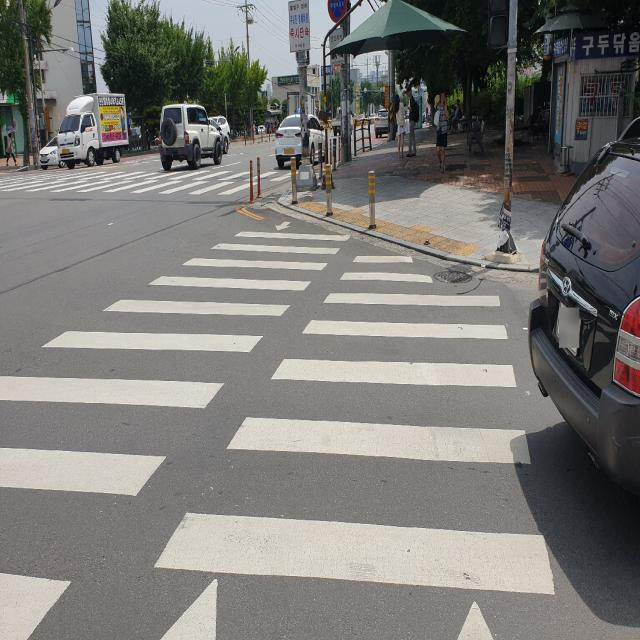횡단보도: (0, 222, 555, 640), (0, 162, 304, 203)
